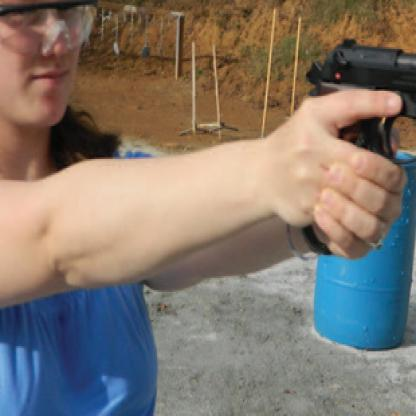gun: (295, 26, 415, 268)
